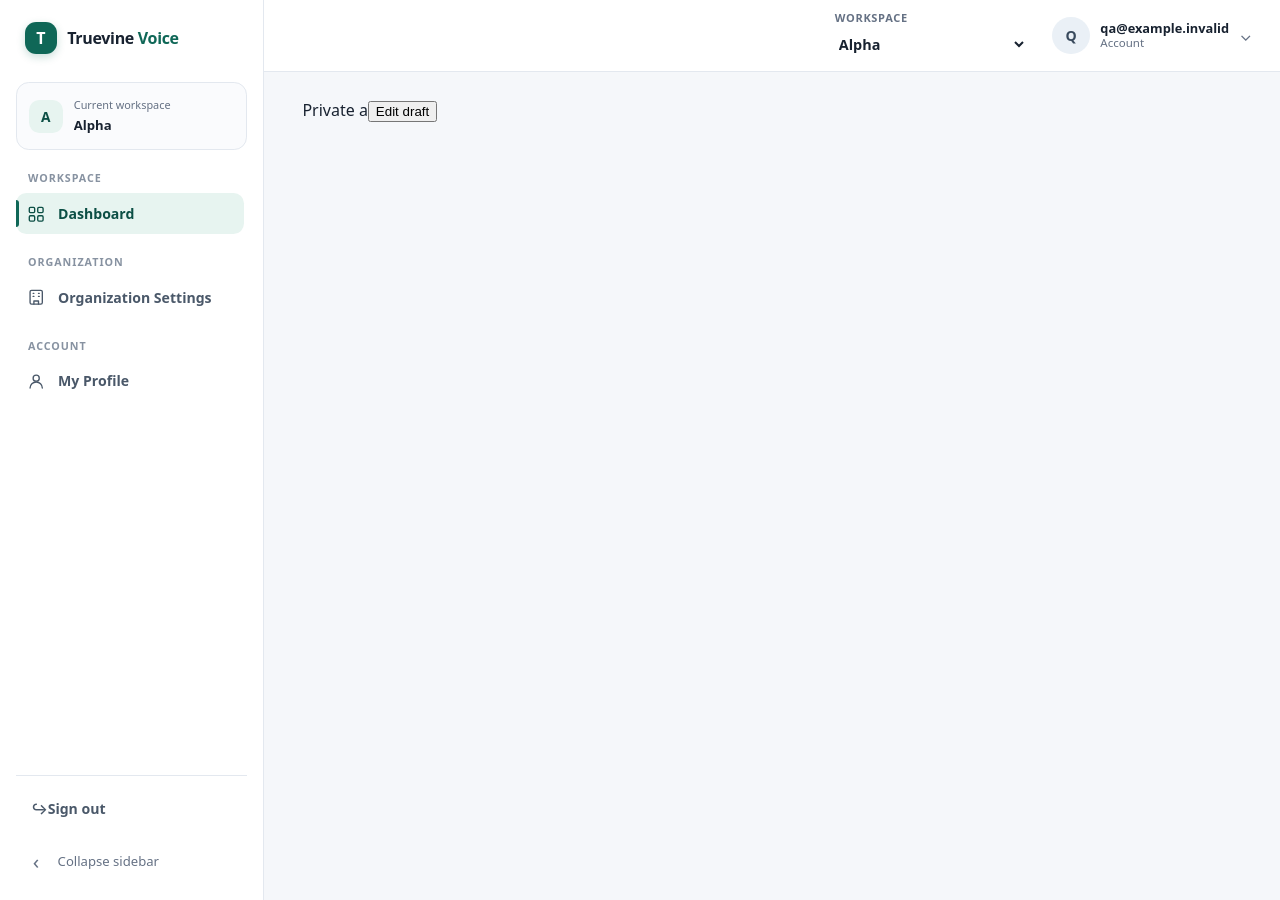
it: secure organization workspace transitions › refuses a membership removed since the layout loaded and leaves a safe recovery state
Select "Beta" in the dropdown labelled "Workspace" at (931, 45), box [835,27,1027,62]
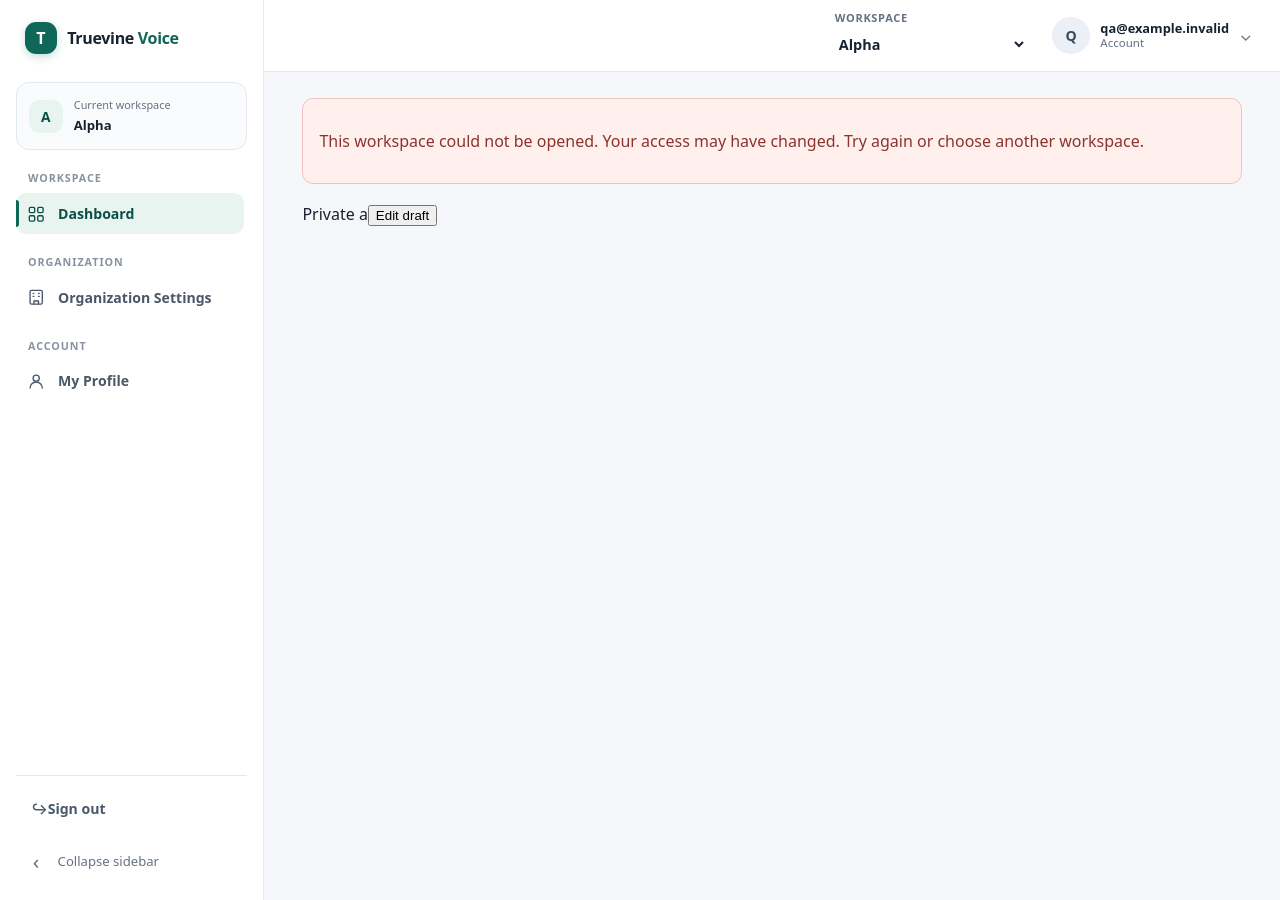
Expected: the text "Private a" is shown, [302,203,437,226]
Result: the message shows "access may have changed" at [319,130,1144,152]
